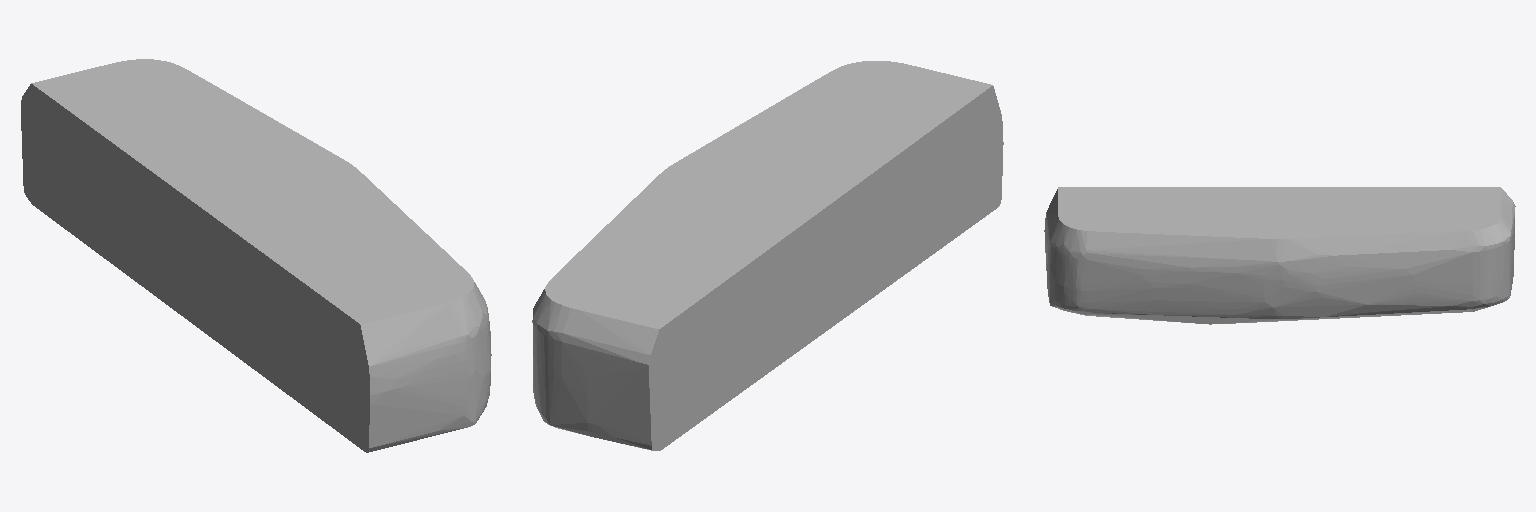
URDF robot description (root):
<robot name="root">
  <link name="link_coacd_convex_piece_0">
    <inertial>
      <origin xyz="0 0 0" rpy="0 0 0"/>
      <inertia ixx="1.02E-09" ixy="1.25E-12" ixz="1.11E-11" iyy="9.93E-10" iyz="-1.21E-10" izz="3.86E-11"/>
    </inertial>
    <visual>
      <origin xyz="0 0 0" rpy="0 0 0"/>
      <geometry>
        <mesh filename="coacd_convex_piece_0.obj" scale="1.0000E+00 1.0000E+00 1.0000E+00"/>
      </geometry>
      <material name="">
        <color rgba="7.50E-01 7.50E-01 7.50E-01 1"/>
      </material>
    </visual>
    <collision>
      <origin xyz="0 0 0" rpy="0 0 0"/>
      <geometry>
        <mesh filename="coacd_convex_piece_0.obj" scale="1.0000E+00 1.0000E+00 1.0000E+00"/>
      </geometry>
    </collision>
  </link>
  <link name="link_coacd_convex_piece_1">
    <inertial>
      <origin xyz="0 0 0" rpy="0 0 0"/>
      <inertia ixx="1.05E-09" ixy="-2.50E-12" ixz="8.05E-12" iyy="8.79E-10" iyz="4.06E-10" izz="1.89E-10"/>
    </inertial>
    <visual>
      <origin xyz="0 0 0" rpy="0 0 0"/>
      <geometry>
        <mesh filename="coacd_convex_piece_1.obj" scale="1.0000E+00 1.0000E+00 1.0000E+00"/>
      </geometry>
      <material name="">
        <color rgba="7.50E-01 7.50E-01 7.50E-01 1"/>
      </material>
    </visual>
    <collision>
      <origin xyz="0 0 0" rpy="0 0 0"/>
      <geometry>
        <mesh filename="coacd_convex_piece_1.obj" scale="1.0000E+00 1.0000E+00 1.0000E+00"/>
      </geometry>
    </collision>
  </link>
  <joint name="link_coacd_convex_piece_1_joint" type="fixed">
    <origin xyz="0 0 0" rpy="0 0 0"/>
    <parent link="link_coacd_convex_piece_0"/>
    <child link="link_coacd_convex_piece_1"/>
  </joint>
  <link name="link_coacd_convex_piece_2">
    <inertial>
      <origin xyz="0 0 0" rpy="0 0 0"/>
      <inertia ixx="8.80E-10" ixy="8.91E-12" ixz="1.21E-11" iyy="4.23E-10" iyz="-5.24E-10" izz="4.86E-10"/>
    </inertial>
    <visual>
      <origin xyz="0 0 0" rpy="0 0 0"/>
      <geometry>
        <mesh filename="coacd_convex_piece_2.obj" scale="1.0000E+00 1.0000E+00 1.0000E+00"/>
      </geometry>
      <material name="">
        <color rgba="7.50E-01 7.50E-01 7.50E-01 1"/>
      </material>
    </visual>
    <collision>
      <origin xyz="0 0 0" rpy="0 0 0"/>
      <geometry>
        <mesh filename="coacd_convex_piece_2.obj" scale="1.0000E+00 1.0000E+00 1.0000E+00"/>
      </geometry>
    </collision>
  </link>
  <joint name="link_coacd_convex_piece_2_joint" type="fixed">
    <origin xyz="0 0 0" rpy="0 0 0"/>
    <parent link="link_coacd_convex_piece_1"/>
    <child link="link_coacd_convex_piece_2"/>
  </joint>
  <link name="link_coacd_convex_piece_3">
    <inertial>
      <origin xyz="0 0 0" rpy="0 0 0"/>
      <inertia ixx="3.85E-10" ixy="-2.17E-12" ixz="2.66E-12" iyy="1.80E-11" iyz="2.88E-10" izz="3.84E-10"/>
    </inertial>
    <visual>
      <origin xyz="0 0 0" rpy="0 0 0"/>
      <geometry>
        <mesh filename="coacd_convex_piece_3.obj" scale="1.0000E+00 1.0000E+00 1.0000E+00"/>
      </geometry>
      <material name="">
        <color rgba="7.50E-01 7.50E-01 7.50E-01 1"/>
      </material>
    </visual>
    <collision>
      <origin xyz="0 0 0" rpy="0 0 0"/>
      <geometry>
        <mesh filename="coacd_convex_piece_3.obj" scale="1.0000E+00 1.0000E+00 1.0000E+00"/>
      </geometry>
    </collision>
  </link>
  <joint name="link_coacd_convex_piece_3_joint" type="fixed">
    <origin xyz="0 0 0" rpy="0 0 0"/>
    <parent link="link_coacd_convex_piece_2"/>
    <child link="link_coacd_convex_piece_3"/>
  </joint>
  <link name="link_coacd_convex_piece_4">
    <inertial>
      <origin xyz="0 0 0" rpy="0 0 0"/>
      <inertia ixx="7.58E-09" ixy="1.96E-11" ixz="1.45E-09" iyy="6.49E-09" iyz="-5.27E-11" izz="1.88E-09"/>
    </inertial>
    <visual>
      <origin xyz="0 0 0" rpy="0 0 0"/>
      <geometry>
        <mesh filename="coacd_convex_piece_4.obj" scale="1.0000E+00 1.0000E+00 1.0000E+00"/>
      </geometry>
      <material name="">
        <color rgba="7.50E-01 7.50E-01 7.50E-01 1"/>
      </material>
    </visual>
    <collision>
      <origin xyz="0 0 0" rpy="0 0 0"/>
      <geometry>
        <mesh filename="coacd_convex_piece_4.obj" scale="1.0000E+00 1.0000E+00 1.0000E+00"/>
      </geometry>
    </collision>
  </link>
  <joint name="link_coacd_convex_piece_4_joint" type="fixed">
    <origin xyz="0 0 0" rpy="0 0 0"/>
    <parent link="link_coacd_convex_piece_3"/>
    <child link="link_coacd_convex_piece_4"/>
  </joint>
  <link name="link_coacd_convex_piece_5">
    <inertial>
      <origin xyz="0 0 0" rpy="0 0 0"/>
      <inertia ixx="7.17E-09" ixy="-5.38E-13" ixz="-1.46E-09" iyy="6.18E-09" iyz="-5.20E-12" izz="1.79E-09"/>
    </inertial>
    <visual>
      <origin xyz="0 0 0" rpy="0 0 0"/>
      <geometry>
        <mesh filename="coacd_convex_piece_5.obj" scale="1.0000E+00 1.0000E+00 1.0000E+00"/>
      </geometry>
      <material name="">
        <color rgba="7.50E-01 7.50E-01 7.50E-01 1"/>
      </material>
    </visual>
    <collision>
      <origin xyz="0 0 0" rpy="0 0 0"/>
      <geometry>
        <mesh filename="coacd_convex_piece_5.obj" scale="1.0000E+00 1.0000E+00 1.0000E+00"/>
      </geometry>
    </collision>
  </link>
  <joint name="link_coacd_convex_piece_5_joint" type="fixed">
    <origin xyz="0 0 0" rpy="0 0 0"/>
    <parent link="link_coacd_convex_piece_4"/>
    <child link="link_coacd_convex_piece_5"/>
  </joint>
  <link name="link_coacd_convex_piece_6">
    <inertial>
      <origin xyz="0 0 0" rpy="0 0 0"/>
      <inertia ixx="3.73E-09" ixy="1.45E-11" ixz="3.39E-11" iyy="1.24E-09" iyz="-2.28E-09" izz="4.10E-09"/>
    </inertial>
    <visual>
      <origin xyz="0 0 0" rpy="0 0 0"/>
      <geometry>
        <mesh filename="coacd_convex_piece_6.obj" scale="1.0000E+00 1.0000E+00 1.0000E+00"/>
      </geometry>
      <material name="">
        <color rgba="7.50E-01 7.50E-01 7.50E-01 1"/>
      </material>
    </visual>
    <collision>
      <origin xyz="0 0 0" rpy="0 0 0"/>
      <geometry>
        <mesh filename="coacd_convex_piece_6.obj" scale="1.0000E+00 1.0000E+00 1.0000E+00"/>
      </geometry>
    </collision>
  </link>
  <joint name="link_coacd_convex_piece_6_joint" type="fixed">
    <origin xyz="0 0 0" rpy="0 0 0"/>
    <parent link="link_coacd_convex_piece_5"/>
    <child link="link_coacd_convex_piece_6"/>
  </joint>
  <link name="link_coacd_convex_piece_7">
    <inertial>
      <origin xyz="0 0 0" rpy="0 0 0"/>
      <inertia ixx="3.47E-09" ixy="1.79E-11" ixz="8.32E-12" iyy="1.17E-09" iyz="2.28E-09" izz="3.80E-09"/>
    </inertial>
    <visual>
      <origin xyz="0 0 0" rpy="0 0 0"/>
      <geometry>
        <mesh filename="coacd_convex_piece_7.obj" scale="1.0000E+00 1.0000E+00 1.0000E+00"/>
      </geometry>
      <material name="">
        <color rgba="7.50E-01 7.50E-01 7.50E-01 1"/>
      </material>
    </visual>
    <collision>
      <origin xyz="0 0 0" rpy="0 0 0"/>
      <geometry>
        <mesh filename="coacd_convex_piece_7.obj" scale="1.0000E+00 1.0000E+00 1.0000E+00"/>
      </geometry>
    </collision>
  </link>
  <joint name="link_coacd_convex_piece_7_joint" type="fixed">
    <origin xyz="0 0 0" rpy="0 0 0"/>
    <parent link="link_coacd_convex_piece_6"/>
    <child link="link_coacd_convex_piece_7"/>
  </joint>
</robot>

--- Facts derived from the render (not from the file) ---
The picture shows the robot from 3 angles, left to right: view 1: azimuth 30°, elevation 25°; view 2: azimuth 150°, elevation 25°; view 3: azimuth 270°, elevation 25°; orthographic projection.
Robot: root — 8 links, 7 joints (7 fixed); root link link_coacd_convex_piece_0; default pose: every joint at zero.
Links seen in each view (by area): view 1: link_coacd_convex_piece_4; view 2: link_coacd_convex_piece_4; view 3: link_coacd_convex_piece_4.
Boxes of the visible links, left/top/right/bottom form: link_coacd_convex_piece_4: left=21, top=59, right=491, bottom=452; link_coacd_convex_piece_4: left=532, top=61, right=1003, bottom=450; link_coacd_convex_piece_4: left=1044, top=187, right=1515, bottom=324.
Bounding box of the posed robot: 0.0153 × 0.0539 × 0.0122 m (x, y, z).
Meshes: 8 distinct files referenced, 1 mesh visuals loaded (1 OBJ); not drawn: 7 (reference not matched to a file when rendering).